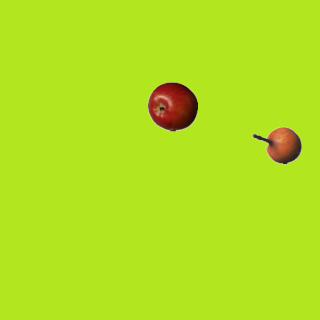Apple Braeburn: (147, 81, 197, 131)
Granadilla: (251, 120, 301, 170)
